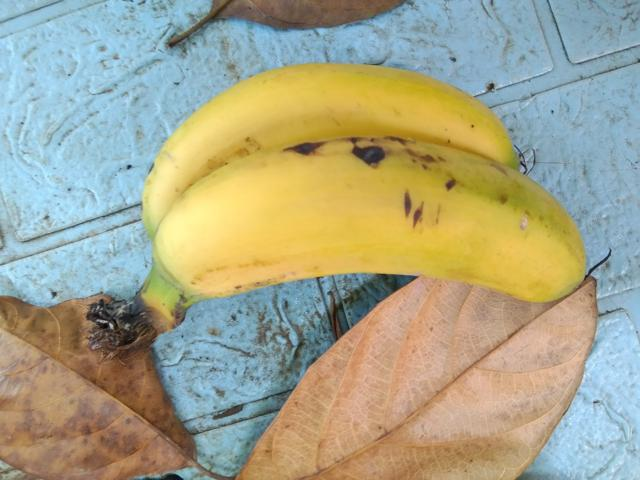freshripe: (103, 48, 437, 126)
ripe: (109, 122, 626, 326)
